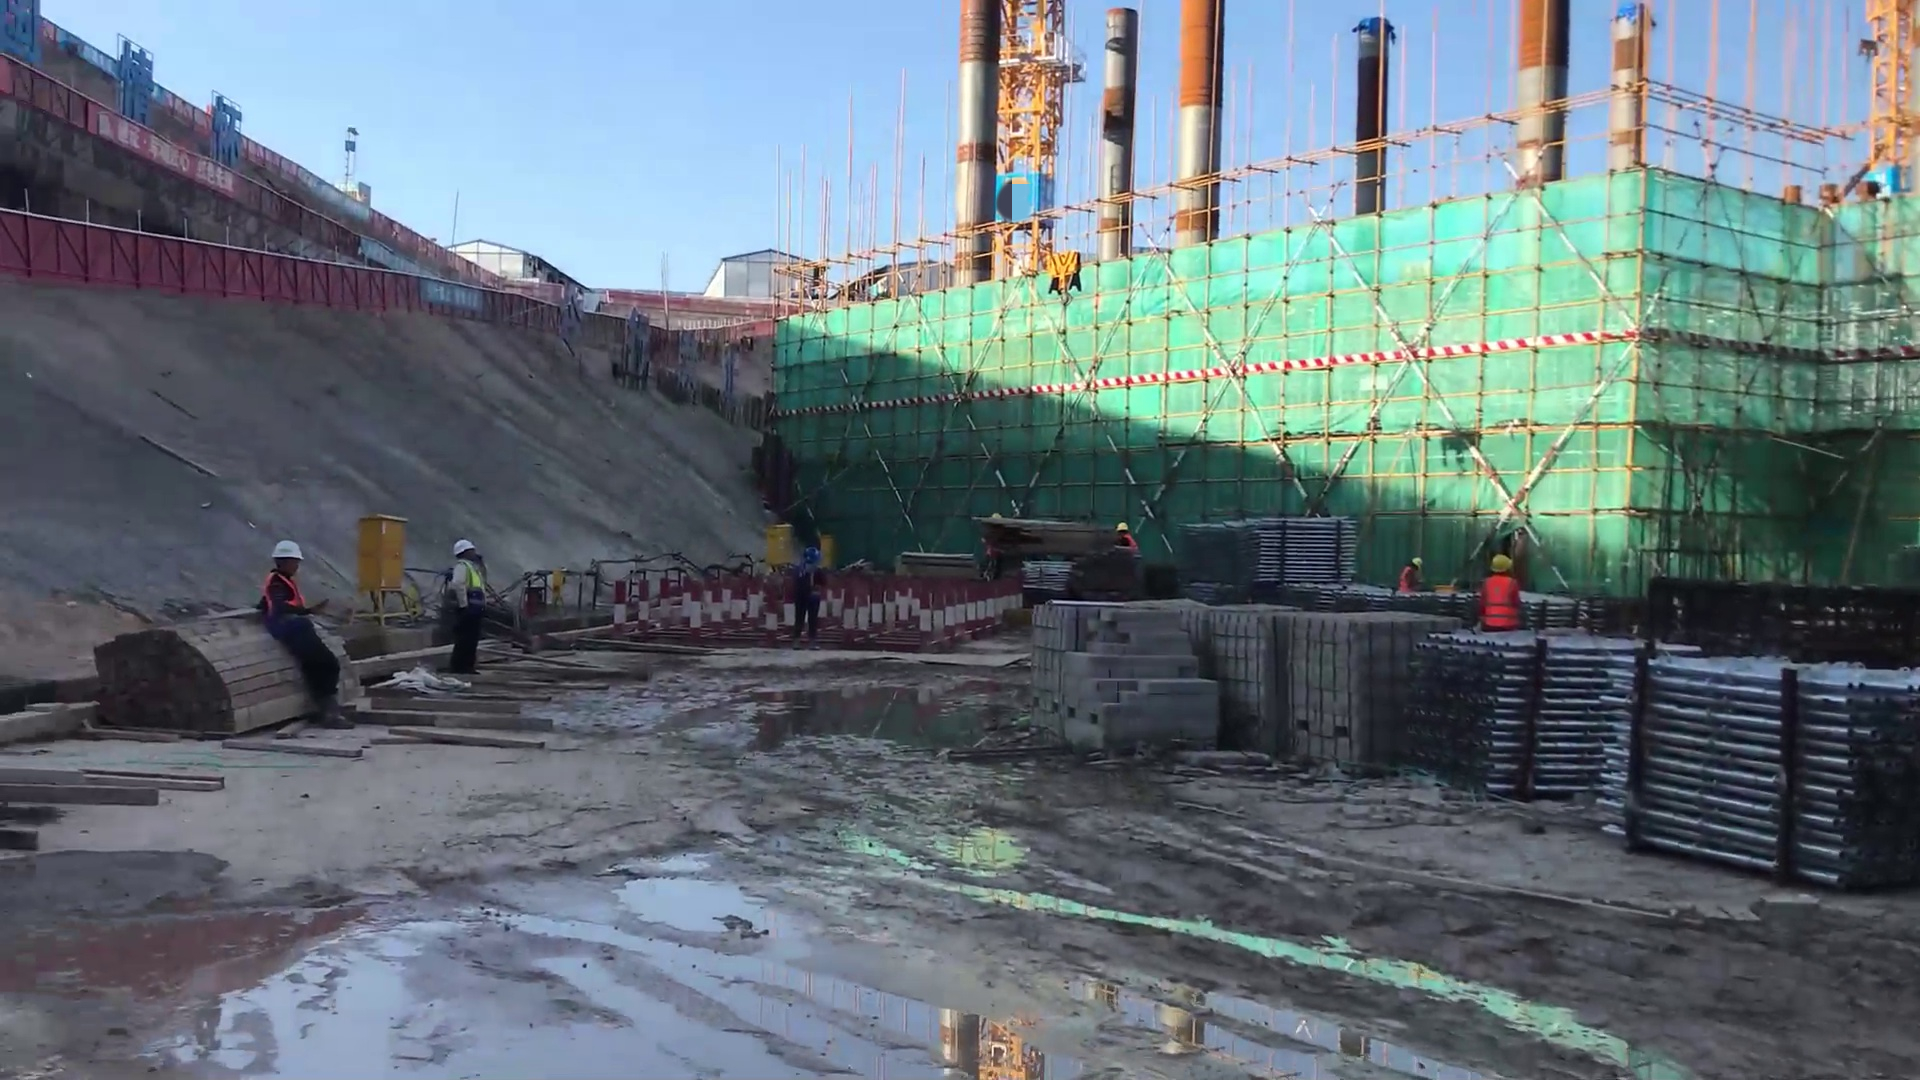brick: (1017, 594, 1384, 792)
ebox: (358, 512, 411, 596), (761, 518, 799, 570)
fence: (1, 215, 418, 320)
helmet: (454, 534, 493, 560), (1100, 512, 1130, 543), (800, 542, 833, 570), (261, 541, 304, 561), (1487, 553, 1516, 577), (1409, 558, 1426, 571)
hook: (1039, 247, 1092, 315)
person: (247, 527, 355, 737), (439, 532, 491, 679), (1474, 546, 1527, 637), (1391, 554, 1426, 595)
scaffold: (1644, 660, 1896, 896), (1433, 637, 1647, 797), (1180, 512, 1358, 592)
vest: (253, 570, 314, 619), (443, 562, 481, 625), (1481, 572, 1519, 627), (1399, 565, 1420, 591)
wood: (94, 622, 285, 743)
